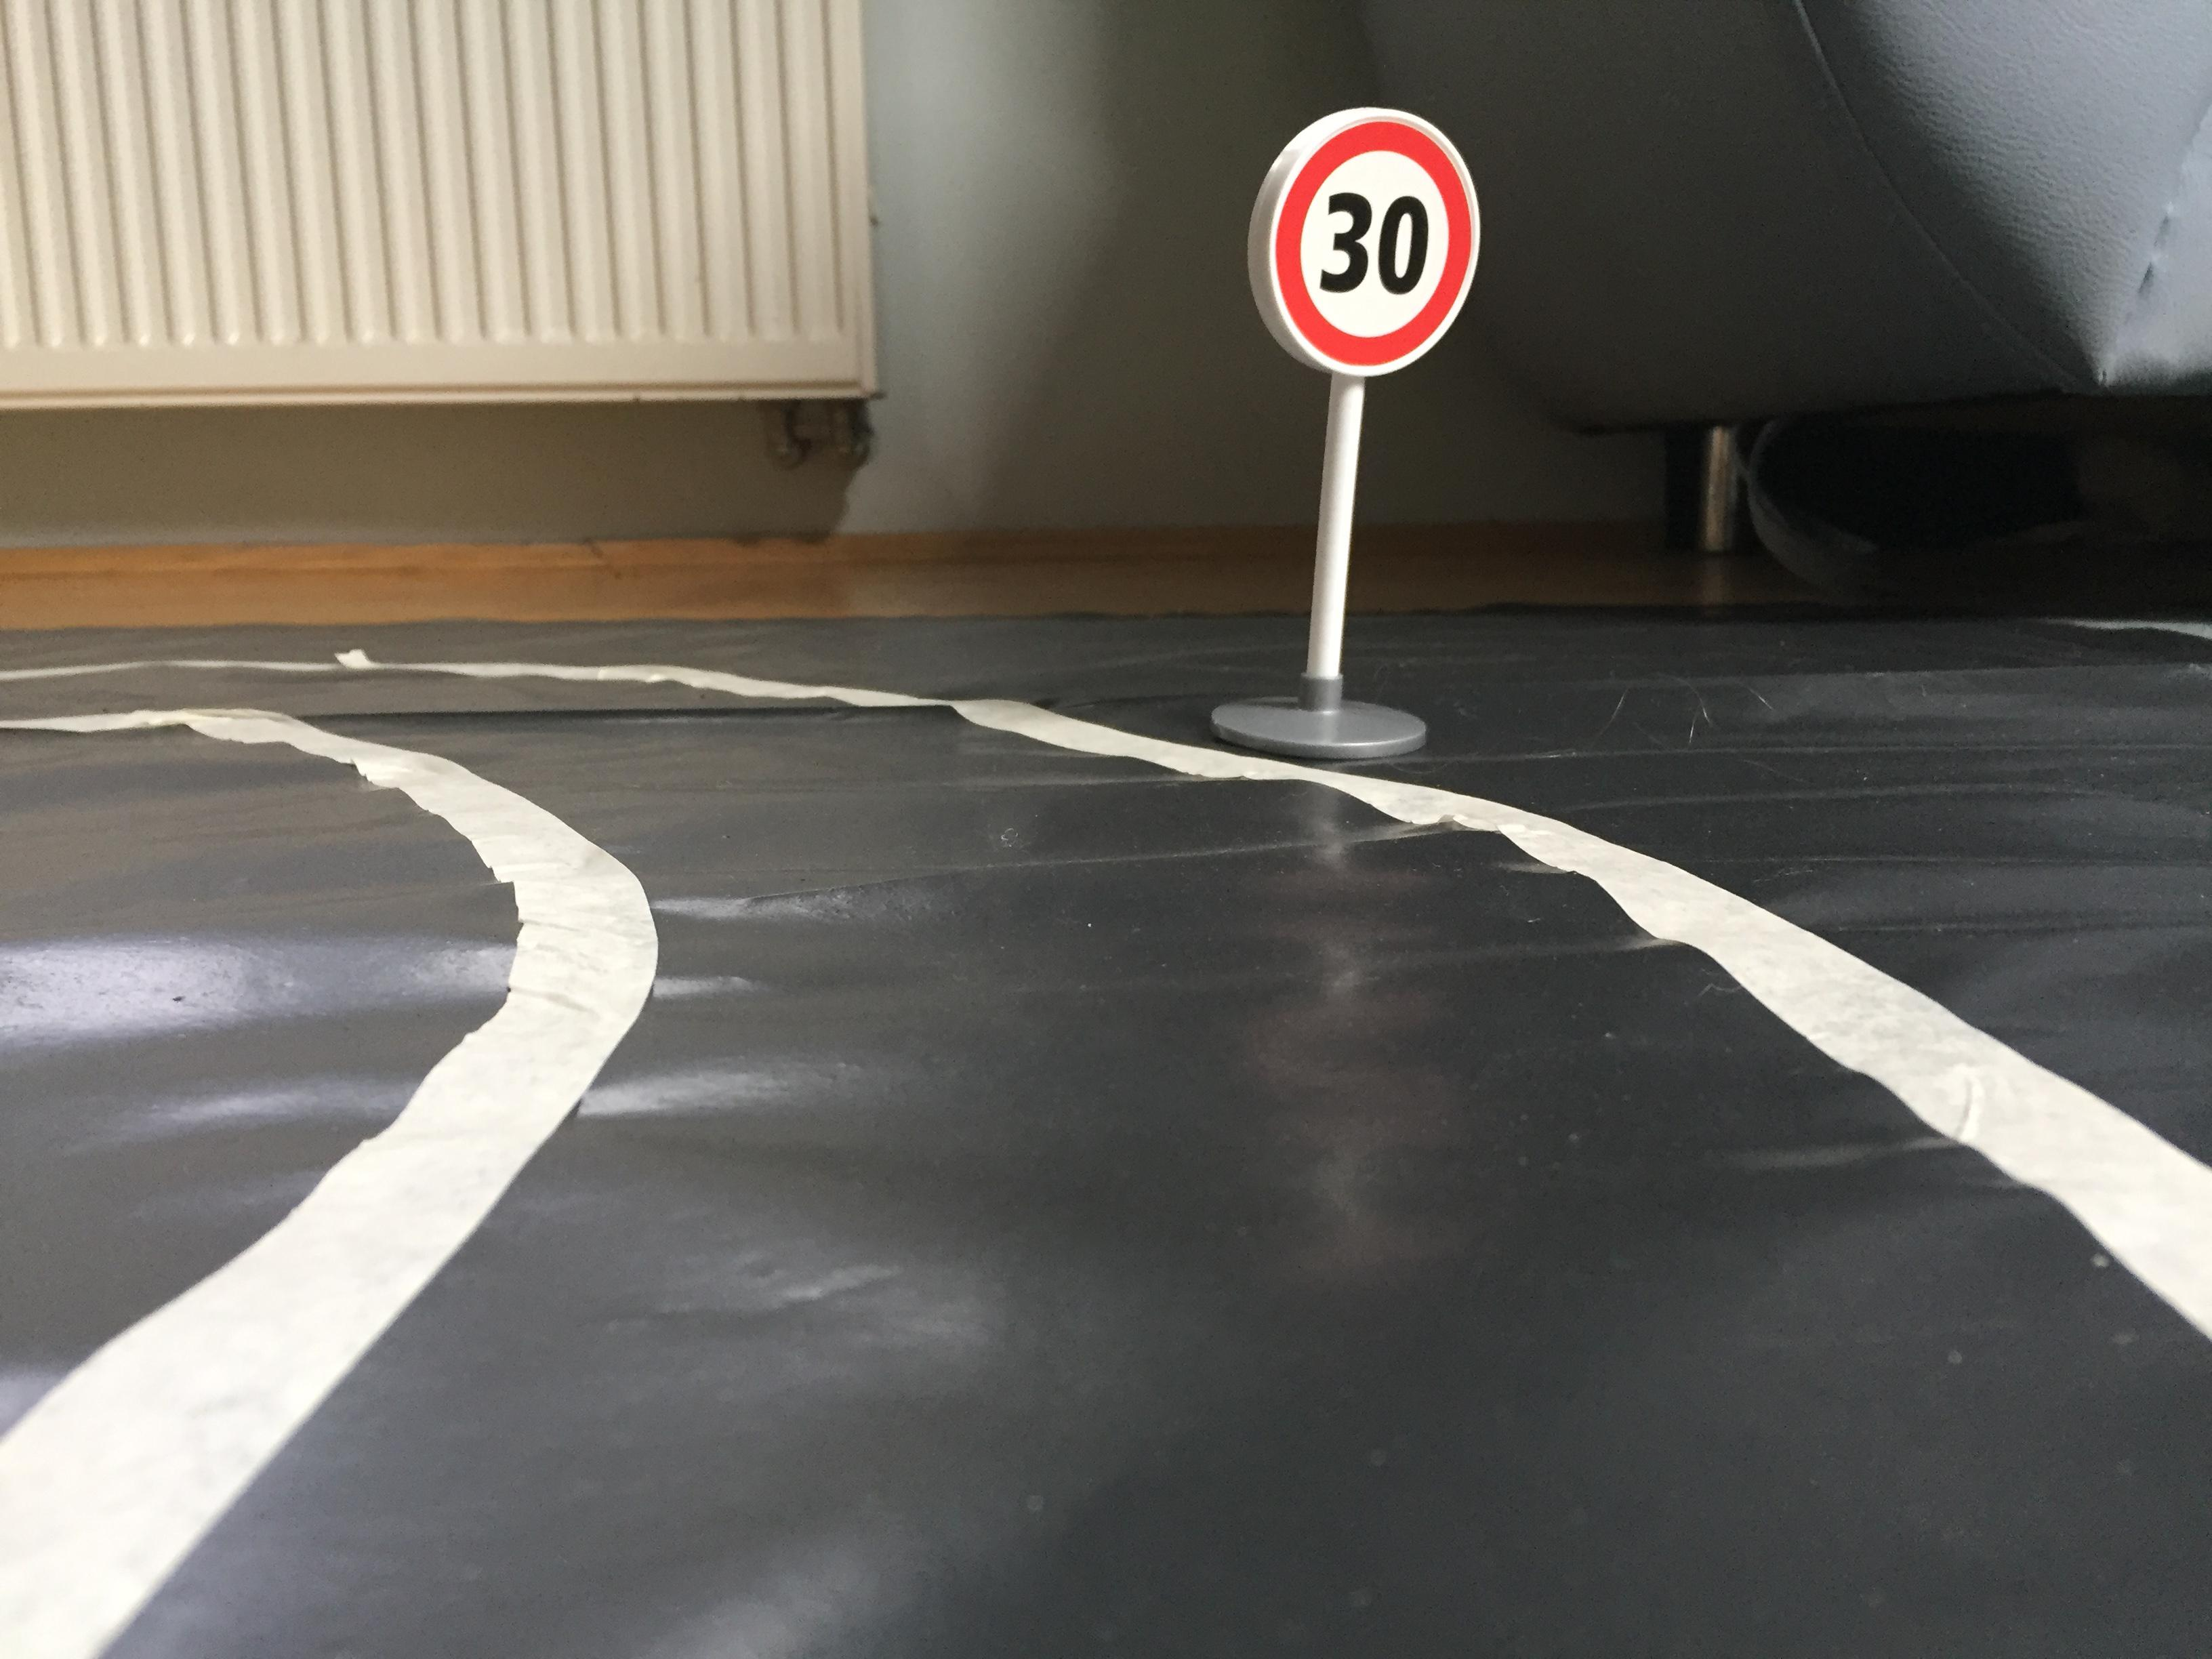speed: (1237, 103, 1491, 385)
